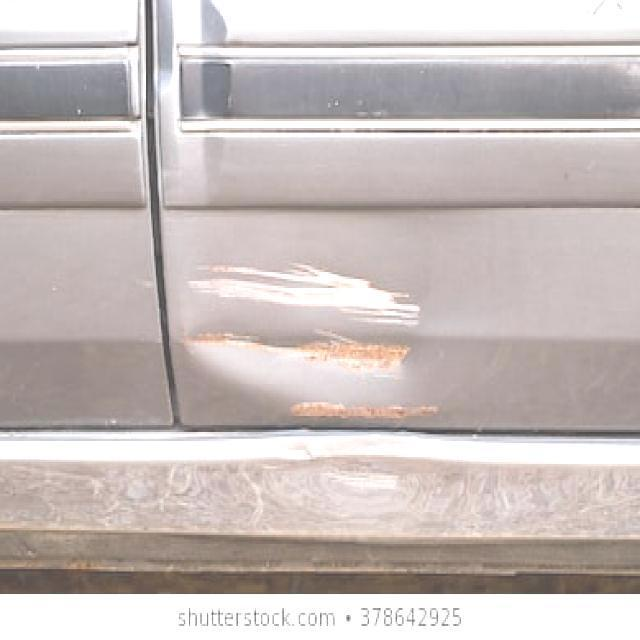minor: (288, 458, 461, 526), (289, 402, 442, 427)
moderate: (187, 264, 422, 326), (187, 333, 413, 372)
